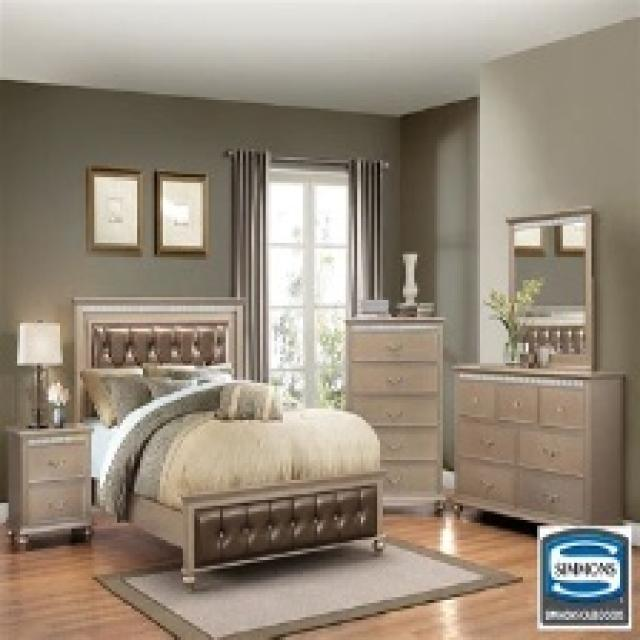Bed: (68, 294, 386, 592)
